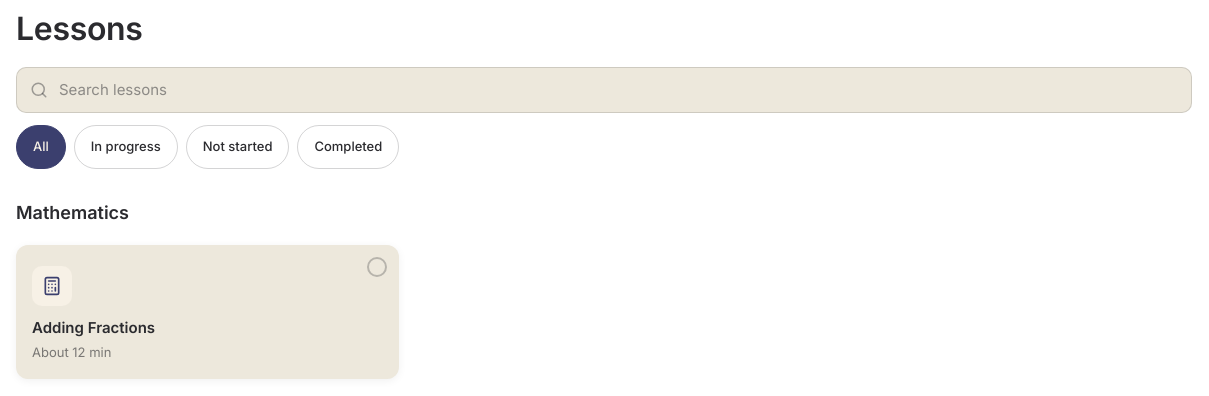
it: the empty state names what is actually narrowing the list › restores the list from a chip with the control the frame draws
This screenshot has width=1209, height=396.
Click the button "Completed". click: (348, 147)
box: x1=297 y1=125 x2=399 y2=169
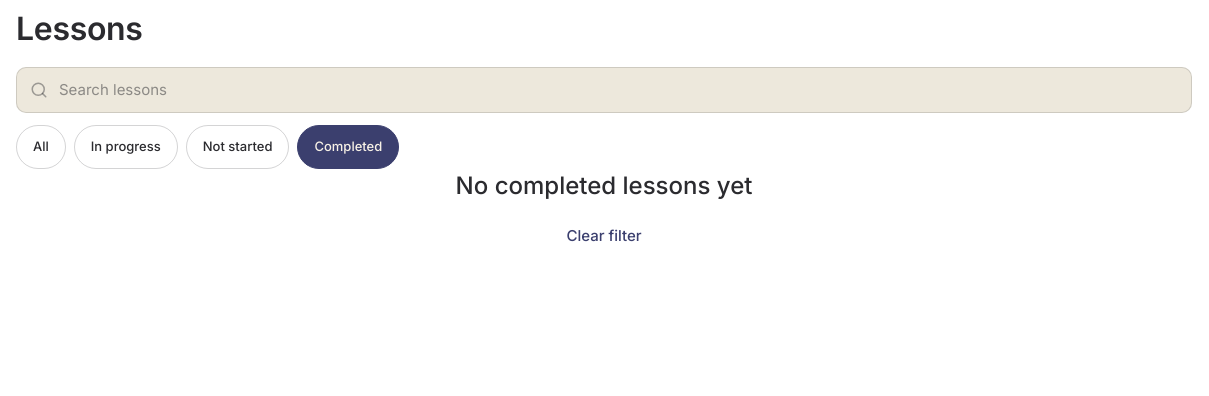
Expected: the button "Adding Fractions" is gone
Click the button "Clear filter". click: (604, 236)
box: x1=546 y1=225 x2=662 y2=247
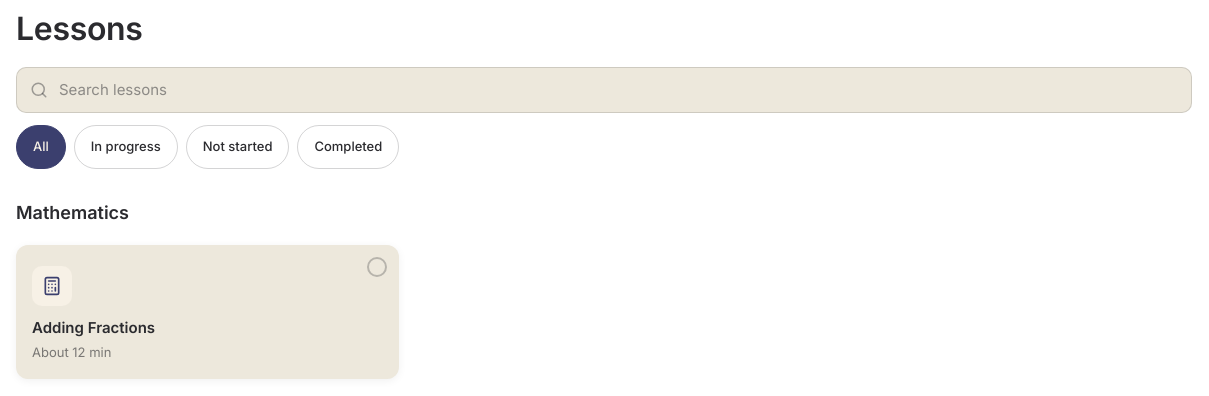
Expected: the text "Adding Fractions" is shown, x1=32 y1=318 x2=155 y2=337
